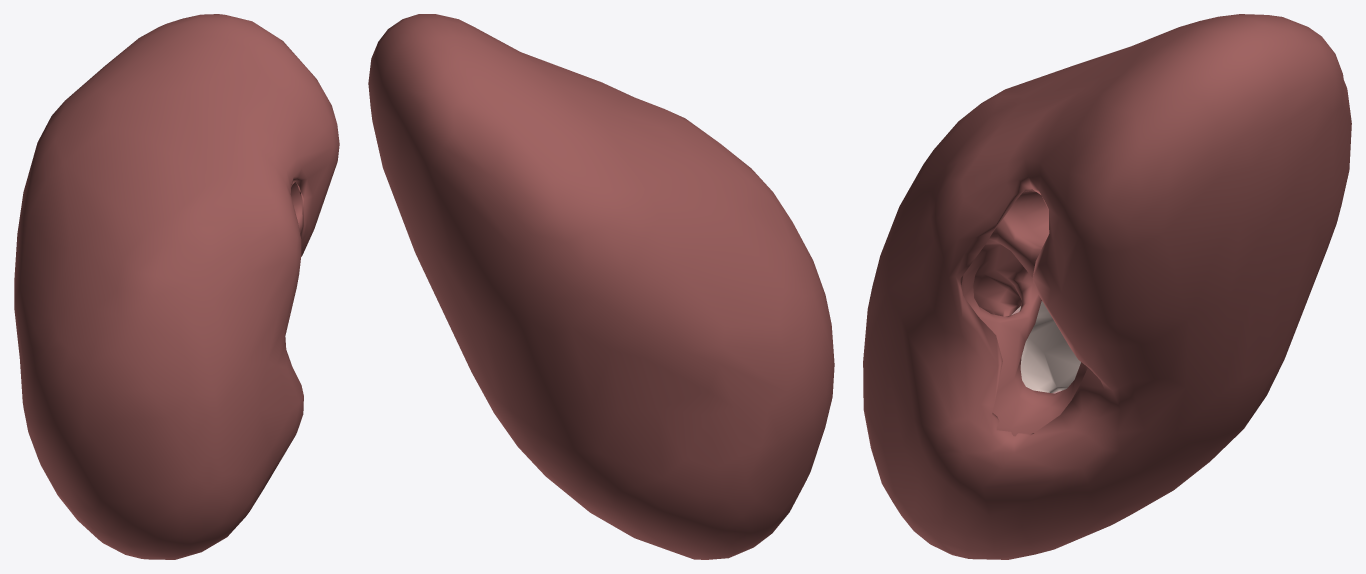
The model's file is vh_f_kidney_r.glb.
3 renders of one model, left to right at view 1: azimuth 30°, elevation 25°; view 2: azimuth 150°, elevation 25°; view 3: azimuth 270°, elevation 25°, orthographic. The views are drawn at different scales.
Visible parts, largest first — view 1: VH_F_kidney_capsule_R; view 2: VH_F_kidney_capsule_R; view 3: VH_F_kidney_capsule_R, VH_F_hilum_of_kidney_R, VH_F_renal_column_R.
Part boxes in pixels (x1=…): VH_F_kidney_capsule_R: x1=14, y1=14, x2=339, y2=559; VH_F_kidney_capsule_R: x1=368, y1=14, x2=834, y2=559; VH_F_kidney_capsule_R: x1=863, y1=14, x2=1351, y2=559; VH_F_hilum_of_kidney_R: x1=961, y1=189, x2=1087, y2=436; VH_F_renal_column_R: x1=1017, y1=301, x2=1080, y2=392.
Size of the model in its own units: 0.0733 by 0.0978 by 0.0695.
